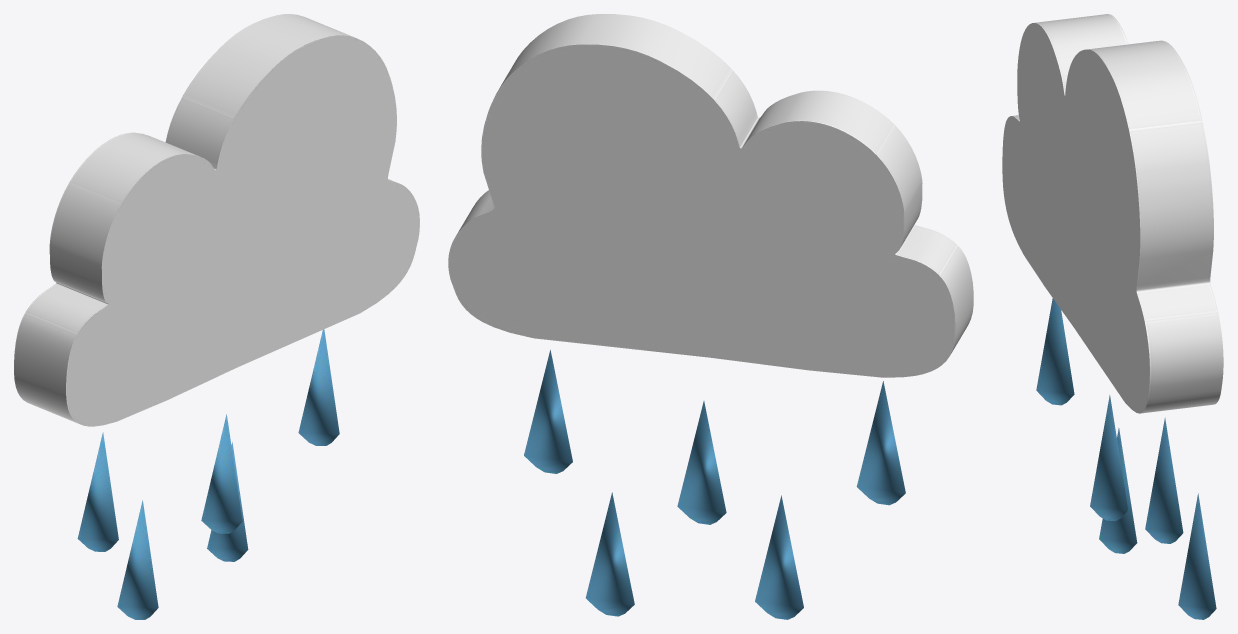
The model's file is 3d_chuva.glb.
The picture shows the model from 3 angles, left to right: view 1: azimuth 30°, elevation 25°; view 2: azimuth 150°, elevation 25°; view 3: azimuth 270°, elevation 25°; orthographic projection. The views are drawn at different scales.
Parts seen in each view (by area): view 1: node_id8; view 2: node_id8; view 3: node_id8.
Boxes of the visible parts, bbox=[...] form: node_id8: bbox=[14, 14, 419, 619]; node_id8: bbox=[448, 14, 973, 619]; node_id8: bbox=[1002, 14, 1223, 619].
Size of the model in its own units: 0.4356 by 0.512 by 0.179.
1 material, 1 textured.
